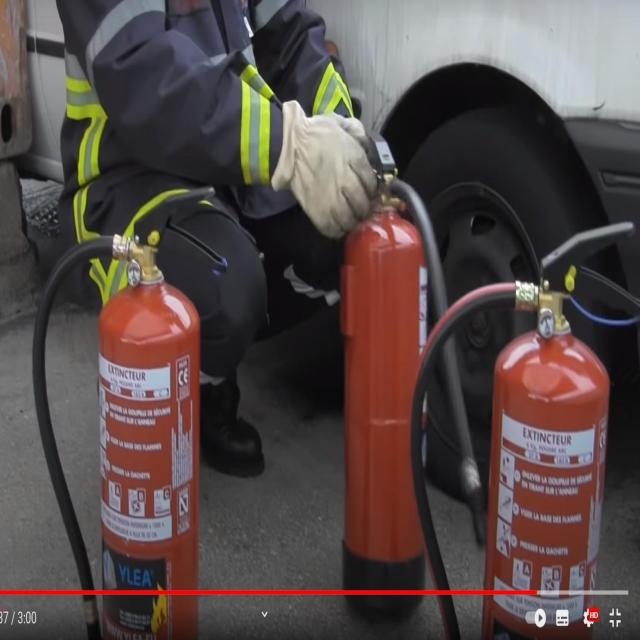fire_extinguisher: (305, 112, 493, 639), (406, 217, 640, 639), (28, 175, 234, 639)
